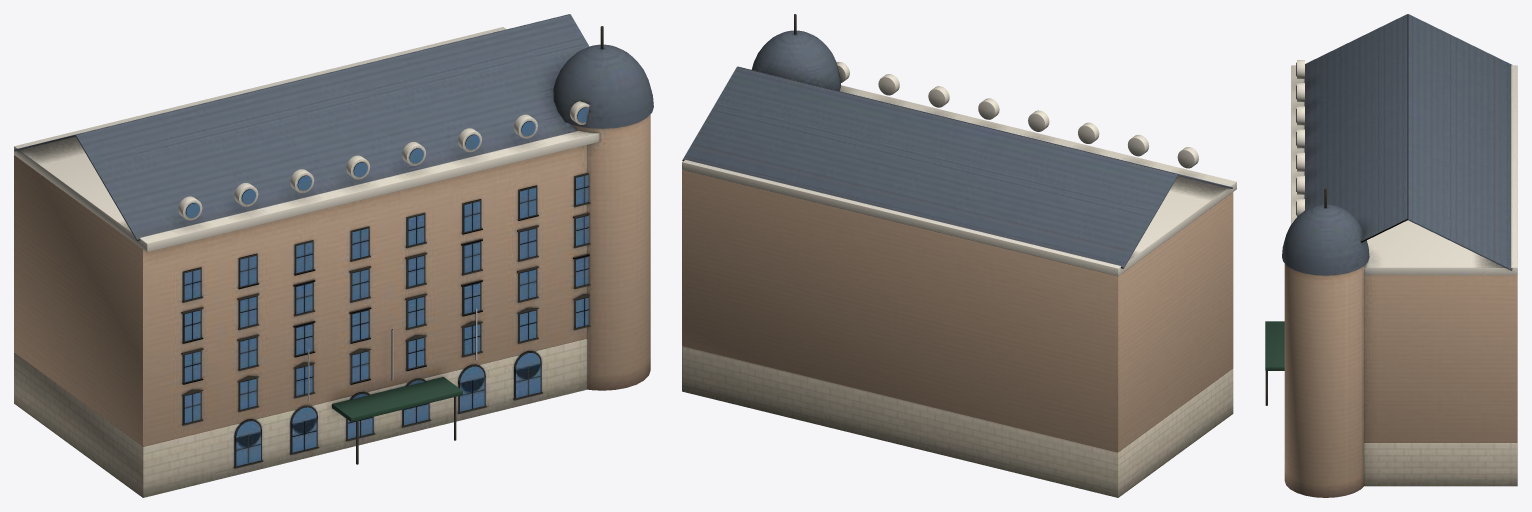
The model's file is willard.glb.
3 renders of one model, left to right at view 1: azimuth 30°, elevation 25°; view 2: azimuth 150°, elevation 25°; view 3: azimuth 270°, elevation 25°, orthographic. The views are drawn at different scales.
Parts seen in each view (by area): view 1: willard; view 2: willard; view 3: willard.
Boxes of the visible parts, x1,y1,x2,y2 form: willard: (14, 14, 653, 497); willard: (682, 14, 1236, 497); willard: (1265, 14, 1517, 497).
Bounding box in the file's own units: 37.4 × 23.5 × 18.4.
Materials: 1 (1 with a texture image).
